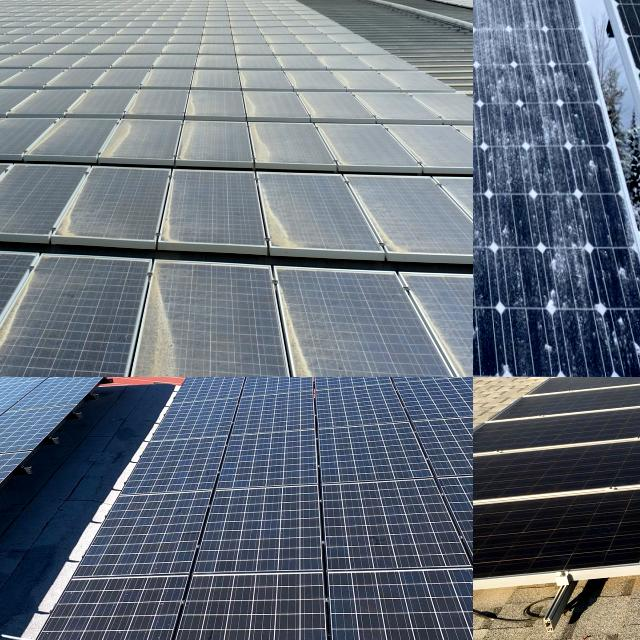dust: (247, 58, 393, 249), (68, 63, 164, 240), (474, 493, 640, 568), (172, 56, 242, 230), (269, 272, 377, 377), (519, 394, 640, 486), (0, 251, 78, 377), (0, 58, 48, 232), (124, 259, 184, 377), (387, 316, 417, 377)
panel: (521, 92, 598, 377), (473, 91, 509, 377), (473, 147, 496, 377)
